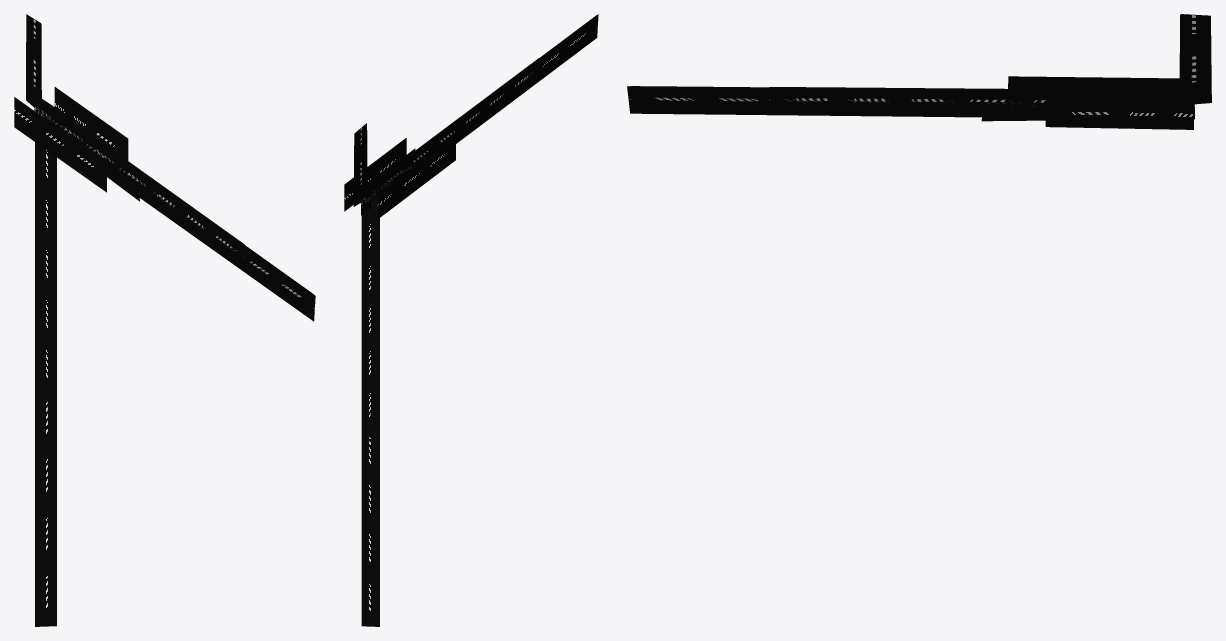
Rendered from 1195k_tunic_pen.gltf.
3 views of the same model, side by side, from view 1: azimuth 30°, elevation 25°; view 2: azimuth 150°, elevation 25°; view 3: azimuth 270°, elevation 25° (orthographic). The views are drawn at different scales.
Parts seen in each view (by area): view 1: 1195k_tunic_pen; view 2: 1195k_tunic_pen; view 3: 1195k_tunic_pen.
Boxes of the visible parts, box(x1,y1,x2,y2) form: 1195k_tunic_pen: box(14, 14, 315, 626); 1195k_tunic_pen: box(344, 14, 598, 626); 1195k_tunic_pen: box(627, 14, 1211, 129).
Bounding box in the file's own units: 0.0554 × 0.7991 × 0.6971.
Materials: 1 (1 with a texture image).
